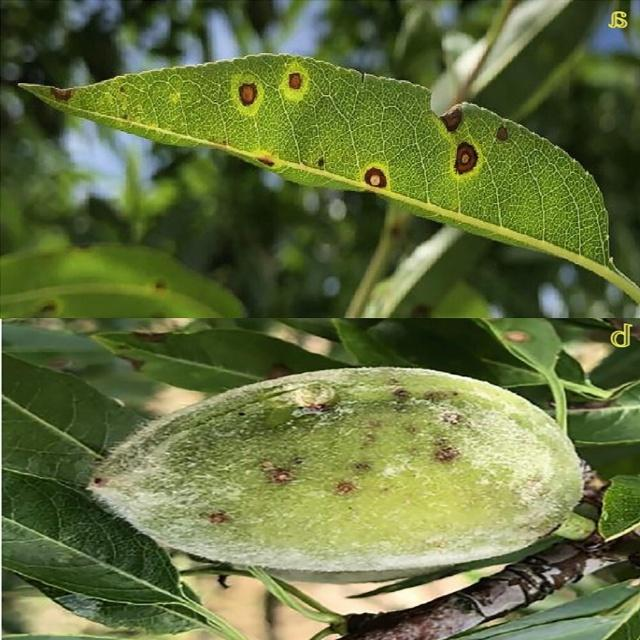leaf_spot: (16, 48, 631, 271), (25, 358, 640, 581)
